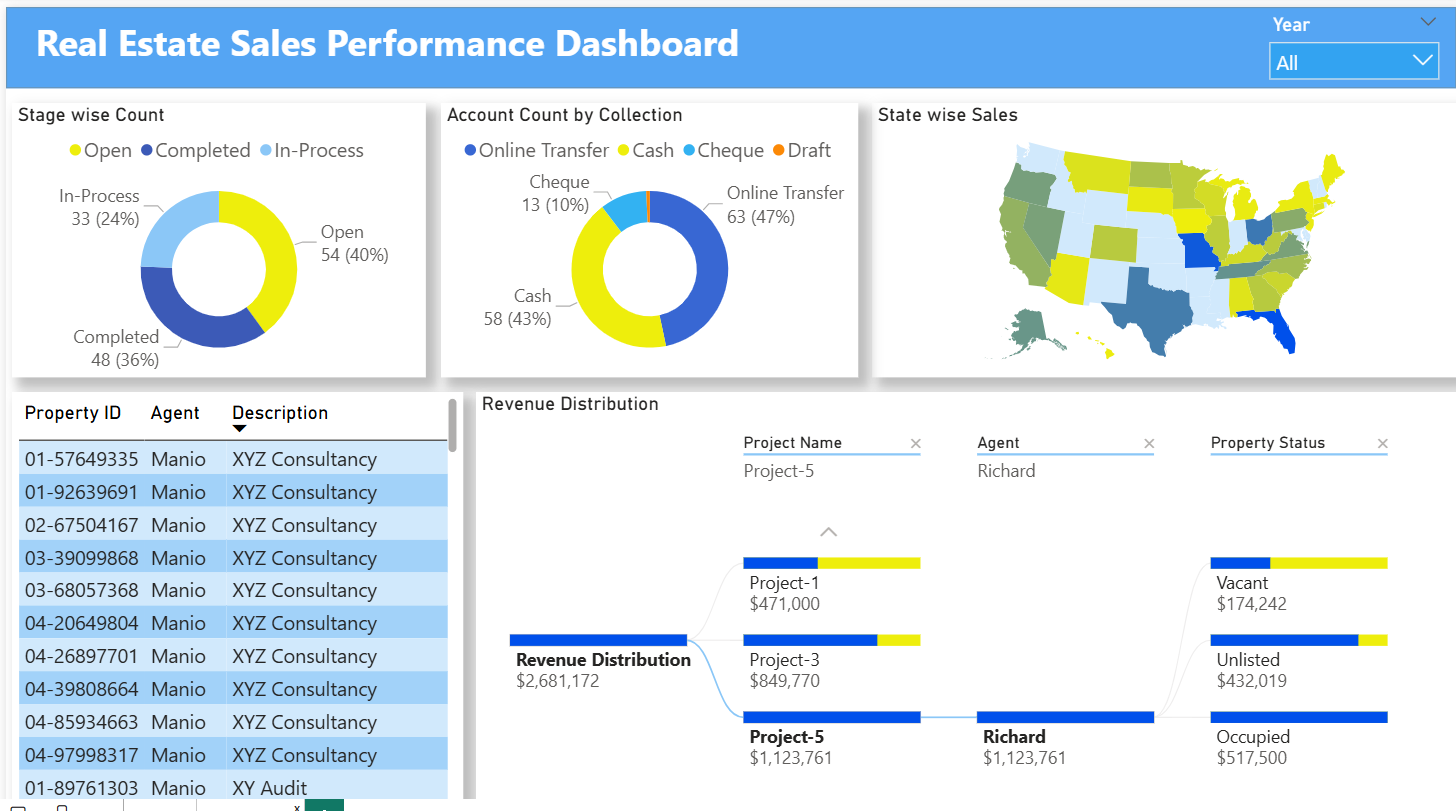

What the dashboard file says about the page in this screenshot:
{"tool":"powerbi","page":{"name":"Details Page","canvas":[1285,741],"ordinal":1},"visuals":[{"type":"shape","box":[0,0,1280,71.7],"z":0},{"type":"textbox","box":[21.4,3.9,698.4,64.2],"z":1000},{"type":"shapeMap","title":"State wise Sales","fields":{"Category":["Real Estate Data.State"],"Value":["Sum(Real Estate Data.Sales)"]},"box":[763.3,85,516.7,241.7],"z":2000},{"type":"donutChart","title":"Stage wise Count","fields":{"Category":["Real Estate Data.Stage Name"],"Y":["CountNonNull(Real Estate Data.Stage Name)"]},"box":[5,85,365,241.7],"z":3000},{"type":"donutChart","title":"Account Count by Collection","fields":{"Category":["Real Estate Data.Collection Bucket"],"Y":["CountNonNull(Real Estate Data.Account Name)"]},"box":[383.3,85,368.3,241.7],"z":4000},{"type":"tableEx","fields":{"Values":["Real Estate Data.Property ID","Real Estate Data.Agent","Real Estate Data.Description"]},"box":[5.3,339.6,398.2,400.8],"z":5000},{"type":"decompositionTreeVisual","title":"Revenue Distribution","fields":{"Analyze":["Sum(Real Estate Data.Revenue)"],"ExplainBy":["Real Estate Data.Project Name","Real Estate Data.Agent","Real Estate Data.Property Status"]},"box":[414.1,339.6,865.5,400.8],"z":6000},{"type":"slicer","fields":{"Values":["Real Estate Data.Year"]},"box":[1104.3,0,170,67.1],"z":7000}]}

Visuals, with their boxes on the page's 1285x741 design canvas (x1, y1, x2, y2). These are canvas units, not pixel positions in the 1456x811 screenshot, which may show the page scaled, cropped or inside an application window:
shape: l=0, t=0, r=1280, b=72
textbox: l=21, t=4, r=720, b=68
"State wise Sales" shapeMap: l=763, t=85, r=1280, b=327
"Stage wise Count" donutChart: l=5, t=85, r=370, b=327
"Account Count by Collection" donutChart: l=383, t=85, r=752, b=327
tableEx - Real Estate Data.Property ID x Real Estate Data.Agent: l=5, t=340, r=404, b=740
"Revenue Distribution" decompositionTreeVisual: l=414, t=340, r=1280, b=740
slicer - Real Estate Data.Year: l=1104, t=0, r=1274, b=67
